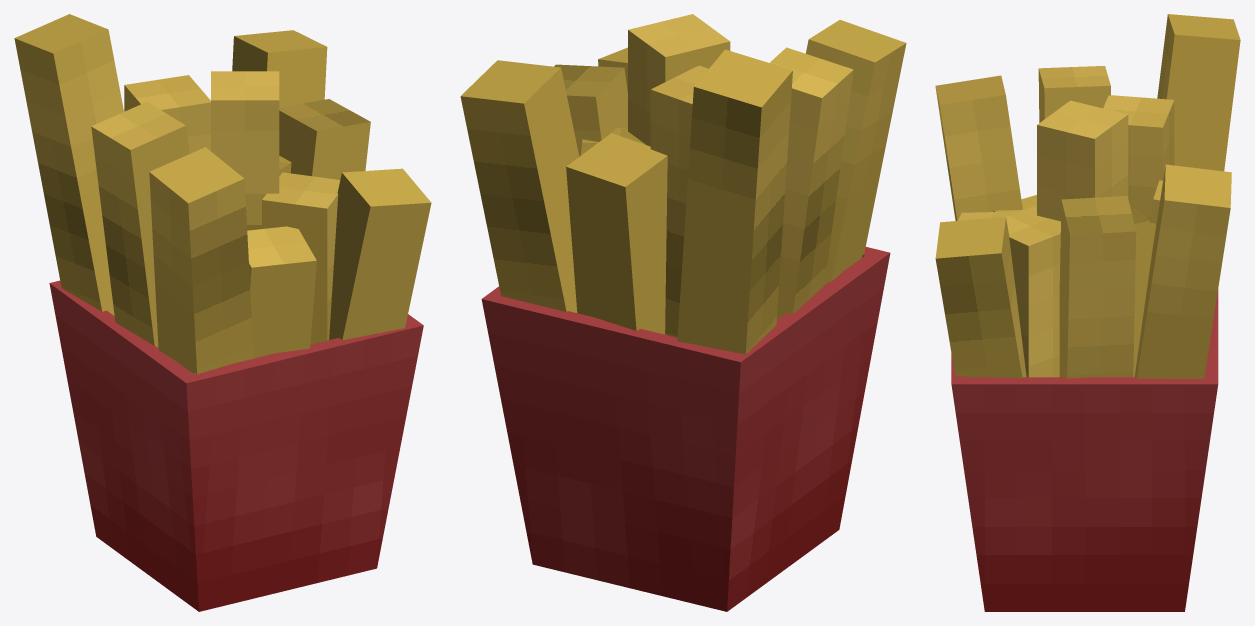
File: fries.fbx
The picture shows the model from 3 angles, left to right: view 1: azimuth 30°, elevation 25°; view 2: azimuth 150°, elevation 25°; view 3: azimuth 270°, elevation 25°; orthographic projection. The views are drawn at different scales.
Parts seen in each view (by area): view 1: box, fri_7, fri_8, fri_6, fri_4, fri_2, fri, fri_9, fri_3, fri_5, fri_12; view 2: box, fri_8, fri_5, fri_1, fri_4, fri_7, fri_12, fri_2, fri_3; view 3: box, fri_5, fri_3, fri_6, fri_8, fri_7, fri_2, fri_9, fri_12, fri_4, fri_11.
Boxes of the visible parts, x1,y1,x2,y2 form: box: (49, 280, 423, 611); fri_7: (149, 147, 253, 374); fri_8: (14, 14, 123, 315); fri_6: (329, 168, 431, 340); fri_4: (91, 102, 189, 347); fri_2: (211, 71, 279, 230); fri: (247, 226, 316, 358); fri_9: (262, 172, 340, 344); fri_3: (279, 99, 370, 179); fri_5: (232, 30, 327, 107); fri_12: (124, 75, 210, 153); box: (481, 247, 890, 611); fri_8: (677, 49, 792, 354); fri_5: (460, 60, 579, 312); fri_1: (566, 133, 667, 334); fri_4: (770, 47, 853, 319); fri_7: (806, 20, 906, 284); fri_12: (650, 66, 708, 337); fri_2: (628, 14, 730, 146); fri_3: (554, 64, 627, 156); box: (951, 289, 1218, 611); fri_5: (1134, 164, 1231, 378); fri_3: (1059, 196, 1136, 378); fri_6: (935, 217, 1026, 378); fri_8: (1157, 14, 1240, 171); fri_7: (935, 75, 1022, 220); fri_2: (1037, 100, 1128, 221); fri_9: (1006, 206, 1060, 377); fri_12: (1103, 95, 1174, 219); fri_4: (1038, 66, 1110, 122); fri_11: (1131, 208, 1156, 377).
Bounding box in the file's own units: 58.44 × 103 × 57.19.
Materials: 2 (2 with a texture image).
